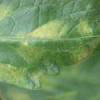Tomato mold leaf: (1, 1, 99, 93)
